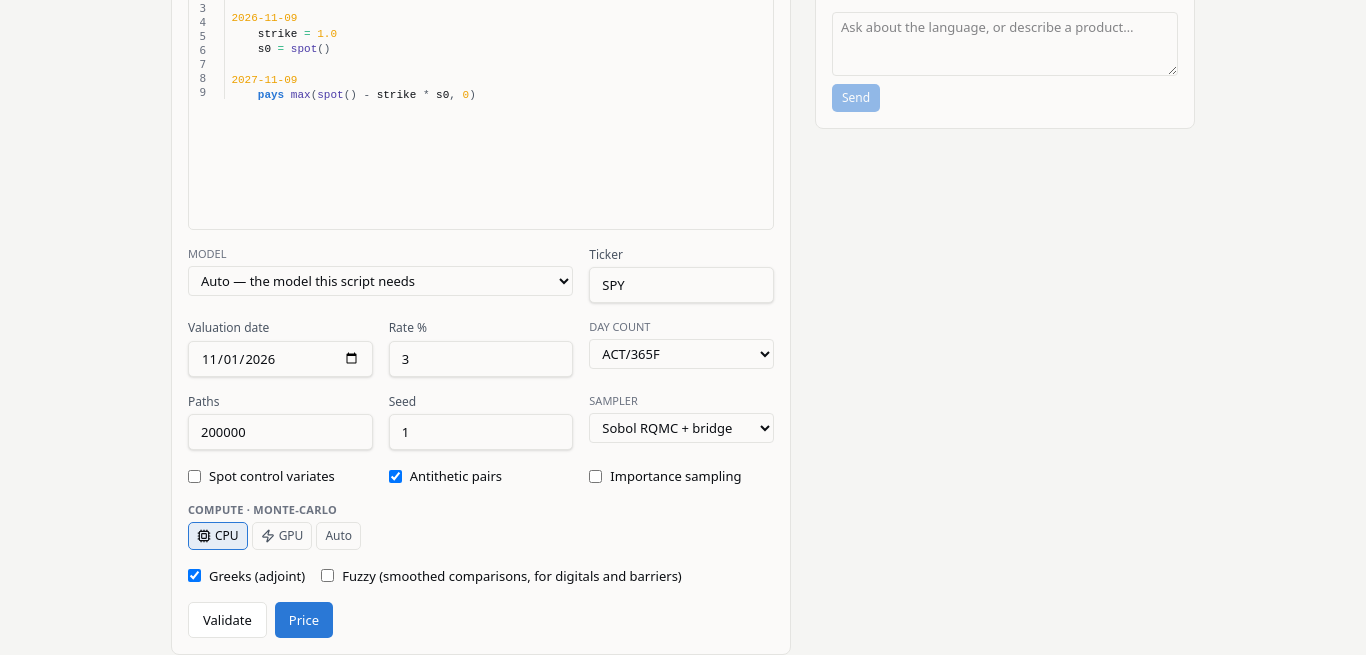
Test: scripting page — greeks › prices without greeks when they are switched off
(page scrolled)
Click the checkbox labelled "Greeks (adjoint)" at (194, 576), box [188,570,201,582]
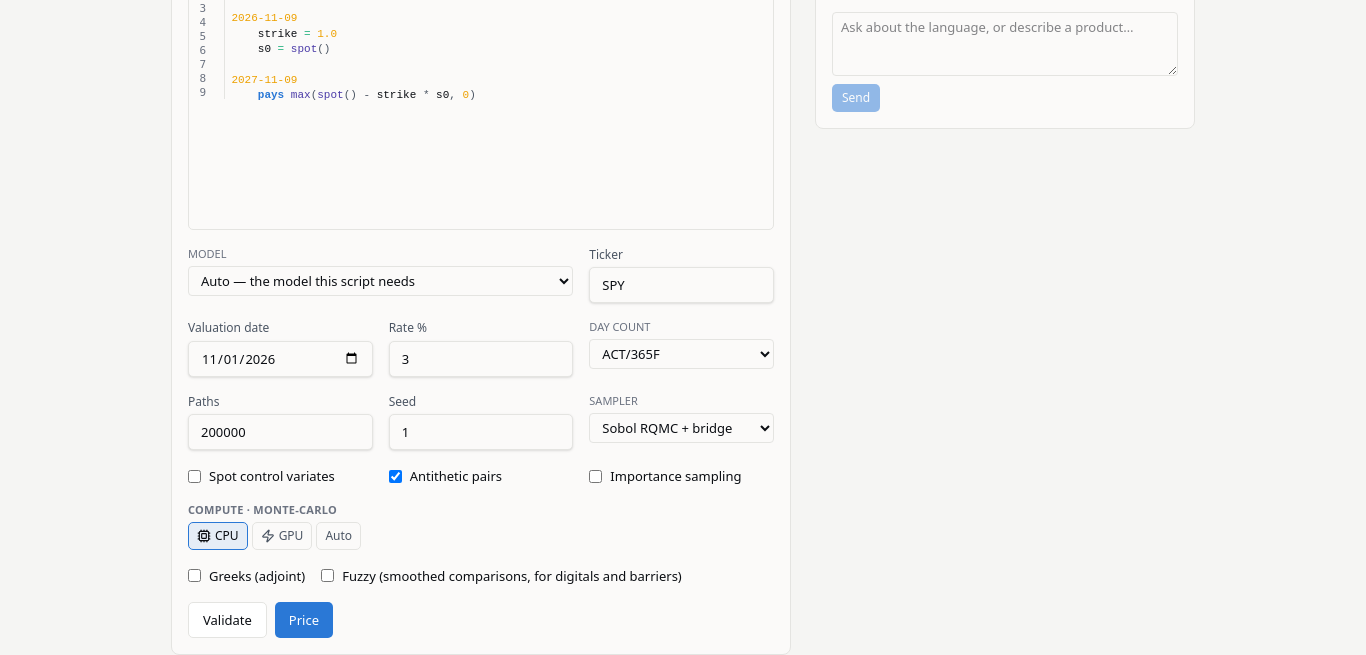
Click the button "Price" at (304, 620), box [275,602,333,638]
(page scrolled)
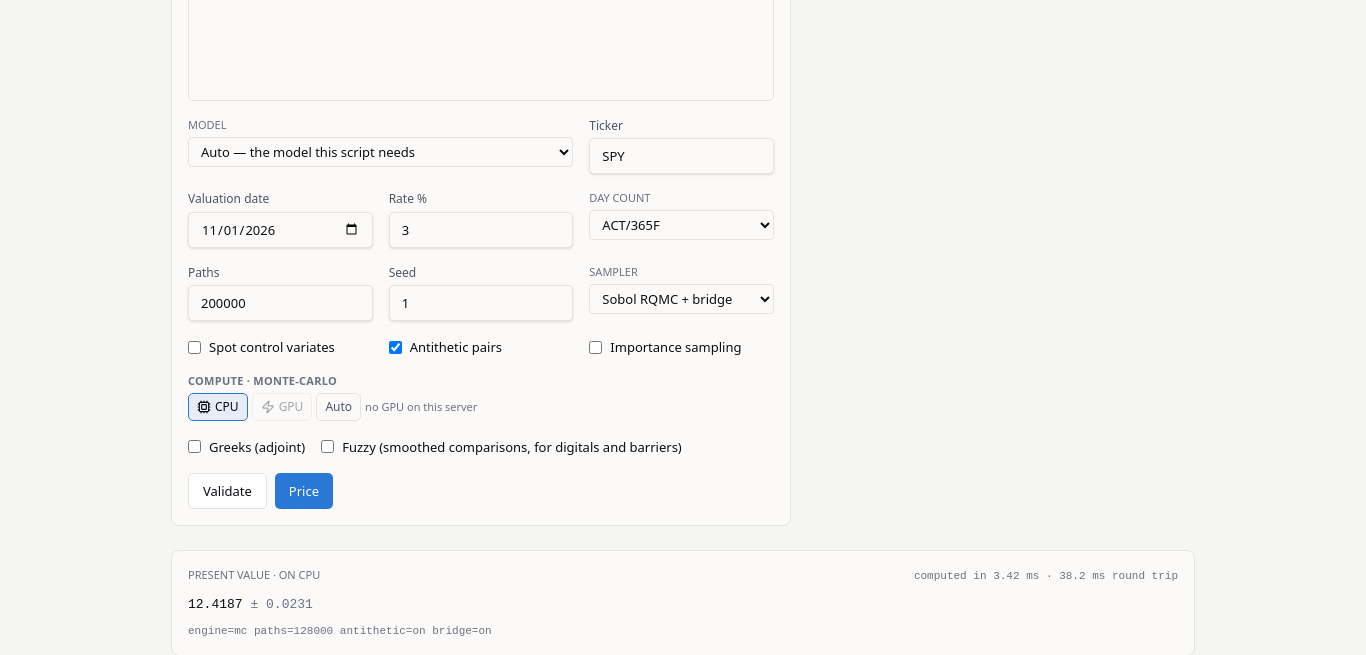
Now the text "Present value · on CPU" is shown, box [188,567,320,583]
